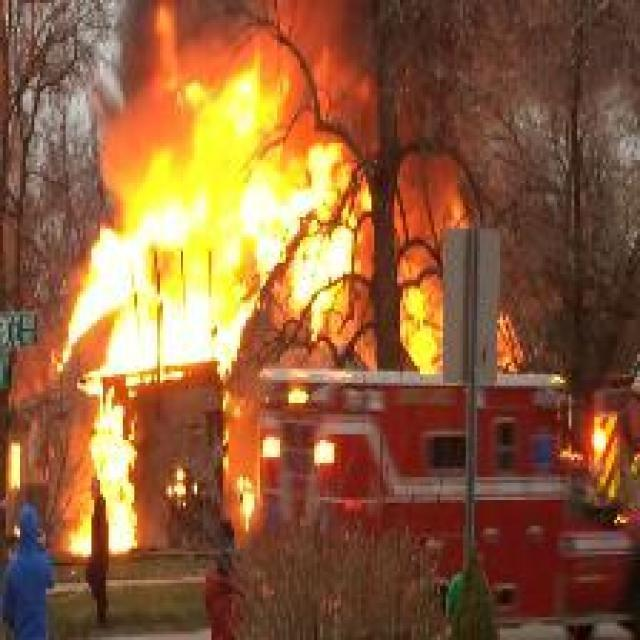Fire: (66, 72, 274, 377), (272, 144, 350, 302), (69, 398, 139, 558)
